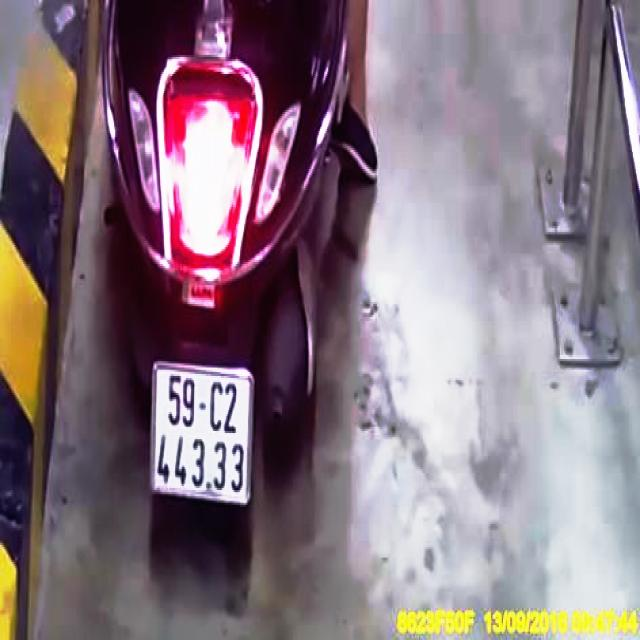license_plate: (152, 360, 255, 504)
